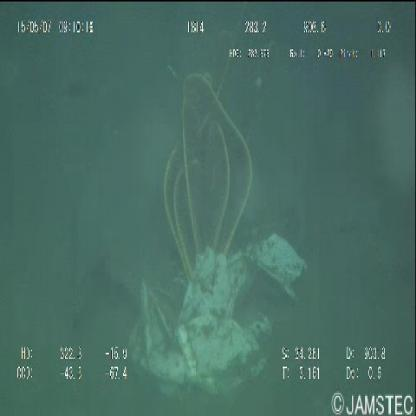Rác: (130, 233, 309, 398)
